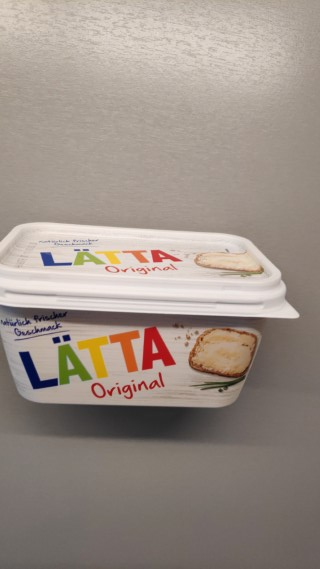laetta: (1, 220, 300, 409)
